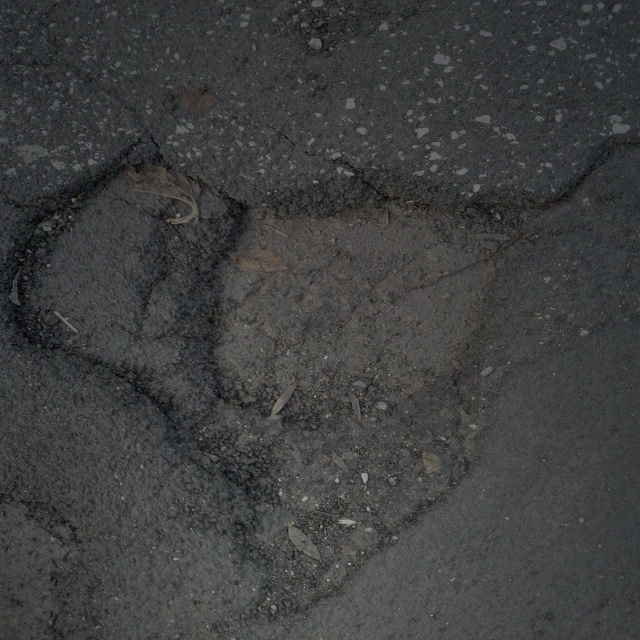pothole: (203, 164, 500, 435), (8, 132, 193, 431)
